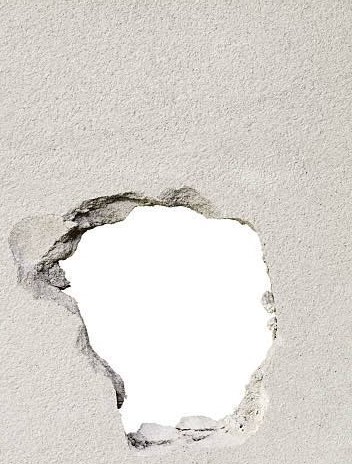Spalling: (33, 185, 277, 450)
